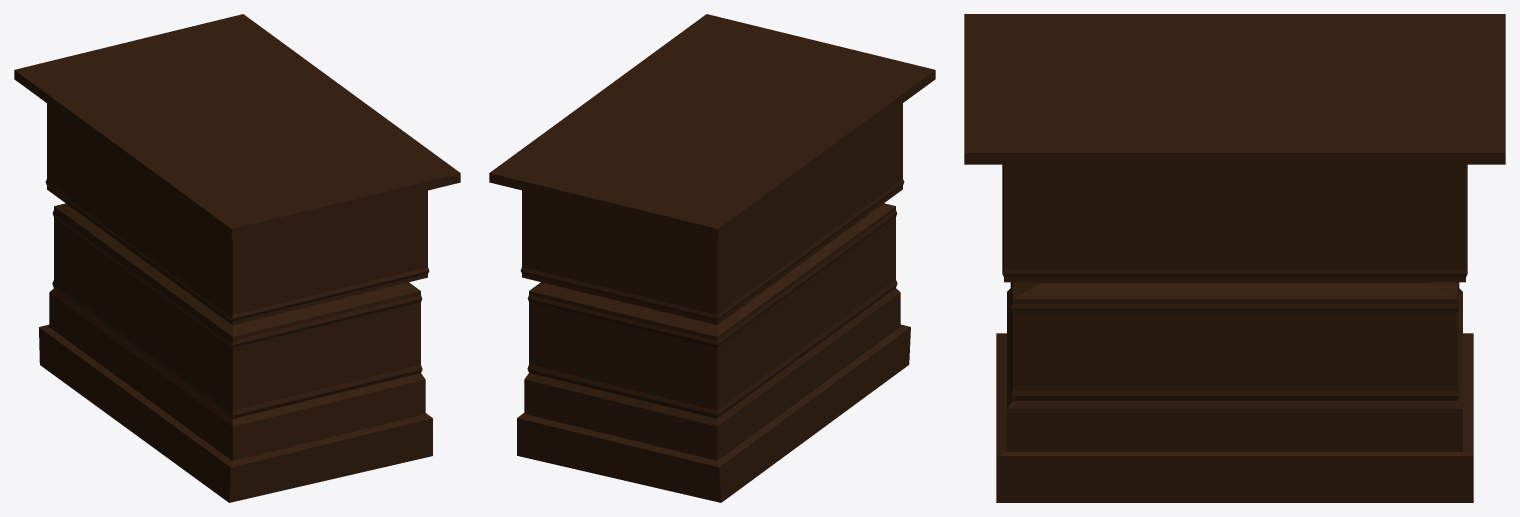
Rendered from Nightstand.fbx.
3 renders of one model, left to right at view 1: azimuth 30°, elevation 25°; view 2: azimuth 150°, elevation 25°; view 3: azimuth 270°, elevation 25°, orthographic. The views are drawn at different scales.
Parts seen in each view (by area): view 1: Cube; view 2: Cube; view 3: Cube.
Boxes of the visible parts, box(x1,y1,x2,y2) form: Cube: box(14, 14, 460, 502); Cube: box(489, 14, 935, 502); Cube: box(964, 14, 1505, 502).
Size of the model in its own units: 234 by 282 by 385.
